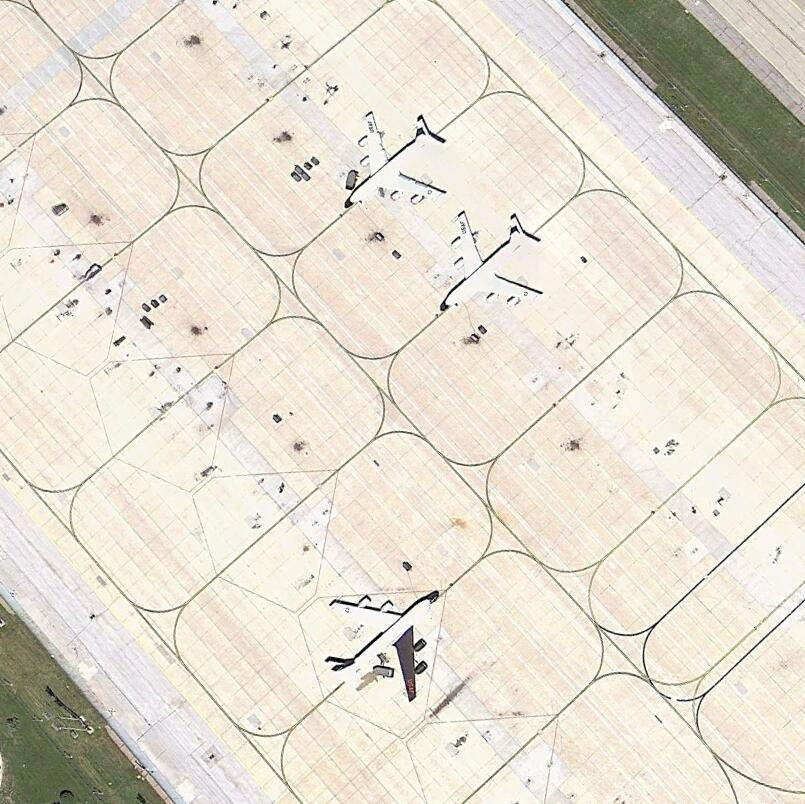A11: (329, 591, 441, 702), (441, 211, 545, 313), (346, 110, 450, 210)
